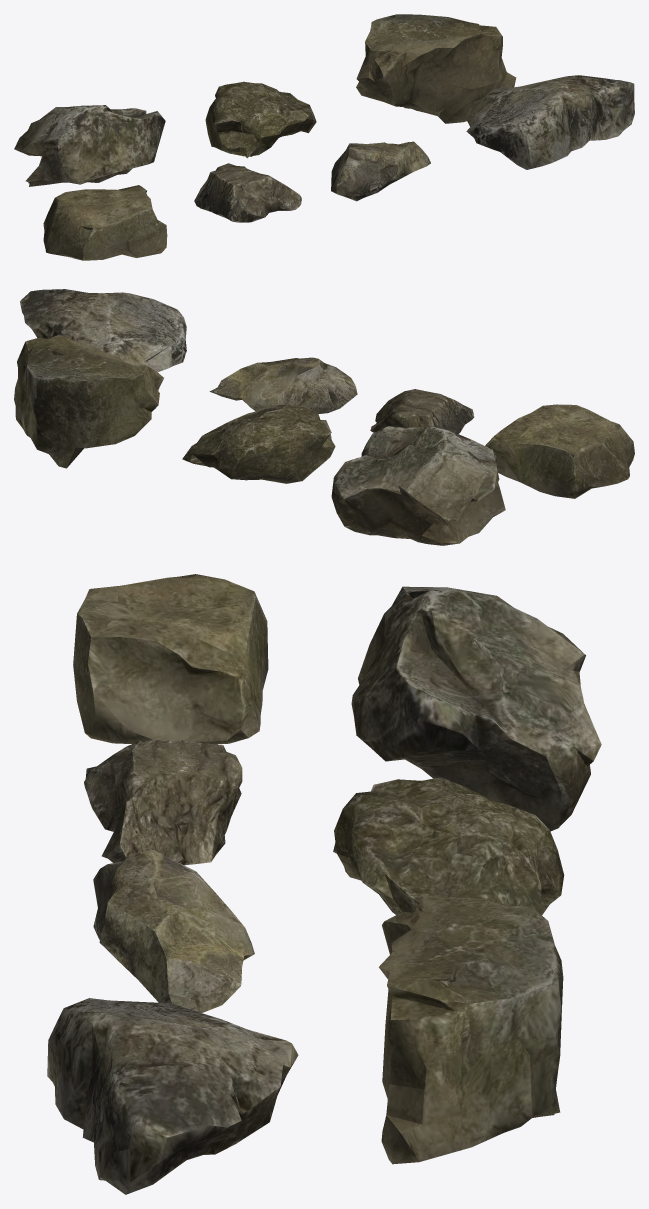
The model's file is scree_shards.glb.
3 renders of one model, top to bottom at view 1: azimuth 30°, elevation 25°; view 2: azimuth 150°, elevation 25°; view 3: azimuth 270°, elevation 25°, orthographic. The views are drawn at different scales.
Parts seen in each view (by area): view 1: scree_shards; view 2: scree_shards; view 3: scree_shards.
Boxes of the visible parts, x1,y1,x2,y2 form: scree_shards: [14, 14, 634, 260]; scree_shards: [14, 289, 634, 545]; scree_shards: [47, 574, 601, 1194].
Size of the model in its own units: 5 by 0.8149 by 2.06.
1 material, 1 textured.
